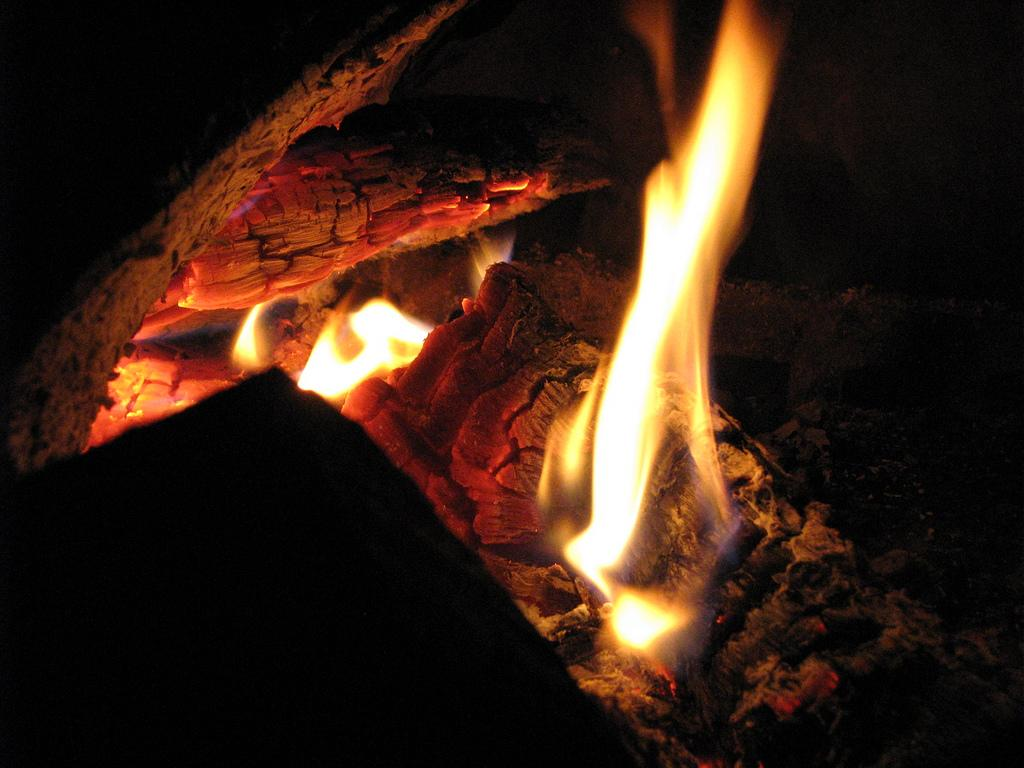fire: (686, 104, 746, 230), (600, 376, 642, 554), (644, 248, 678, 354)
